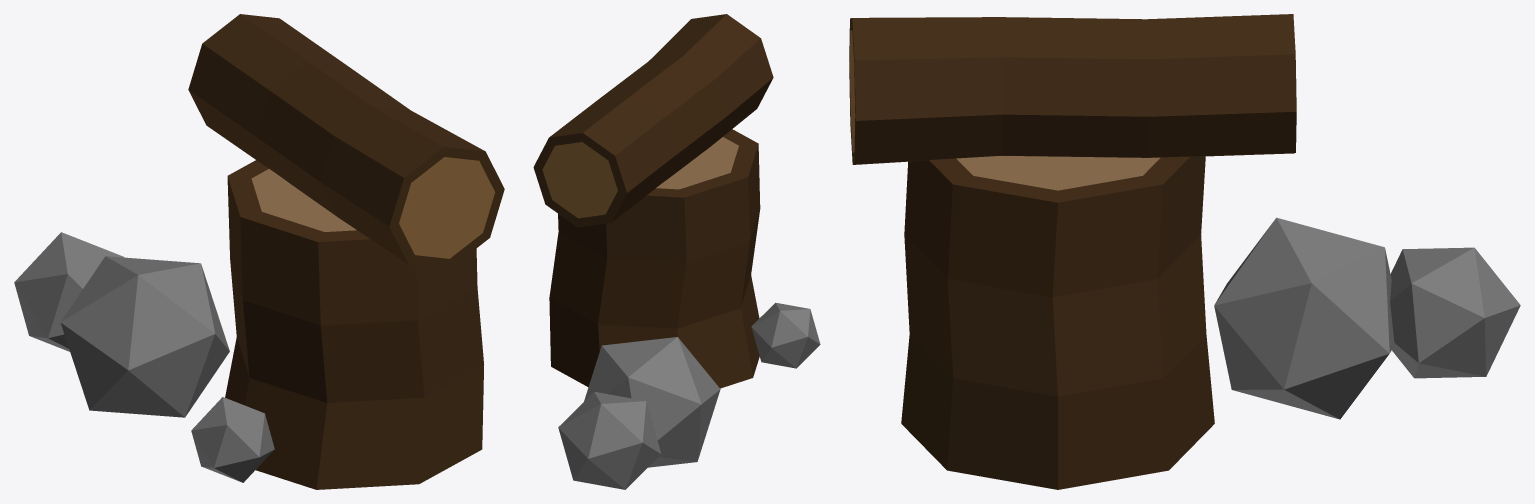
Rendered from rocaytronco.fbx.
3 views of the same model, side by side, from view 1: azimuth 30°, elevation 25°; view 2: azimuth 150°, elevation 25°; view 3: azimuth 270°, elevation 25° (orthographic). The views are drawn at different scales.
Parts seen in each view (by area): view 1: Cylinder.028; view 2: Cylinder.028; view 3: Cylinder.028.
Part boxes in pixels (x1,y1,x2,y2): Cylinder.028: [14, 14, 504, 489]; Cylinder.028: [533, 14, 820, 489]; Cylinder.028: [849, 14, 1520, 489].
Size of the model in its own units: 63.7 by 80.41 by 109.
